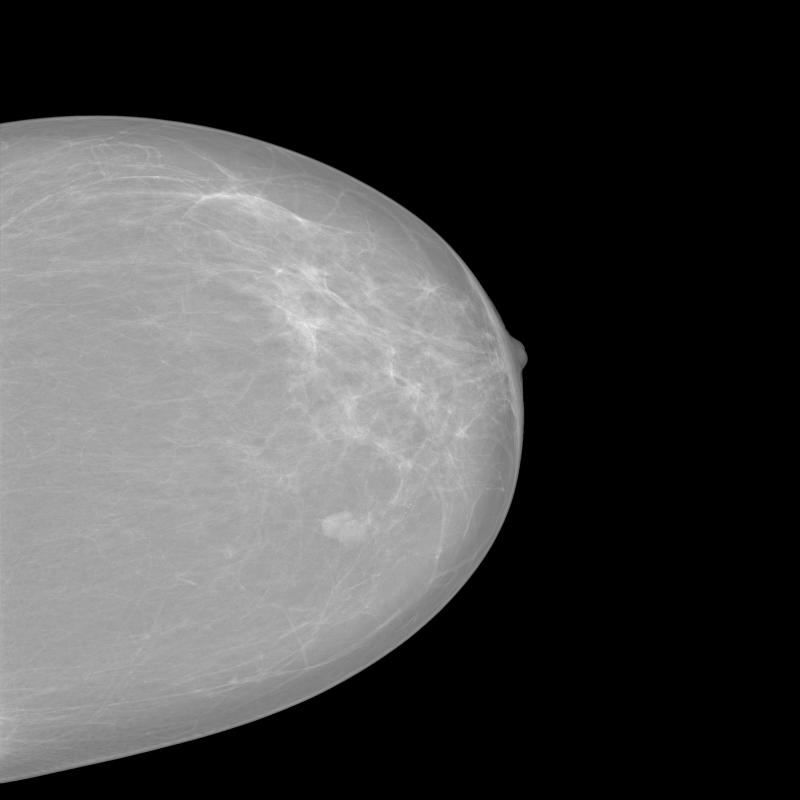Mass: (319, 512, 367, 543)
